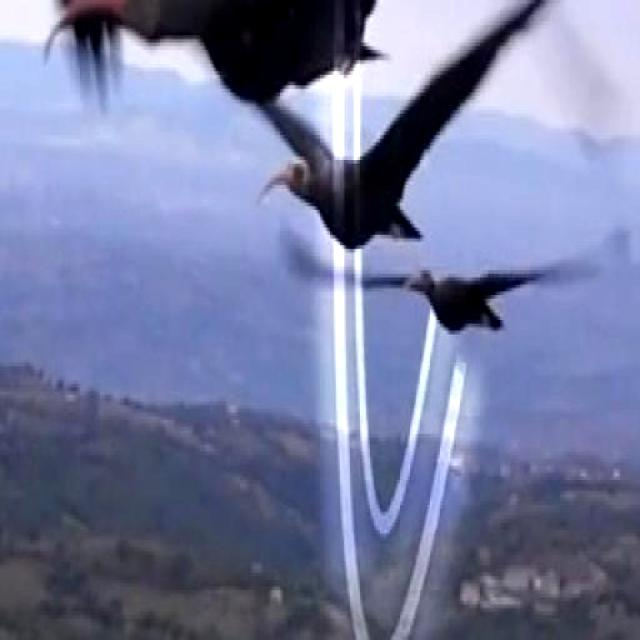airplane: (34, 0, 632, 150), (242, 0, 584, 244), (278, 229, 636, 340)
